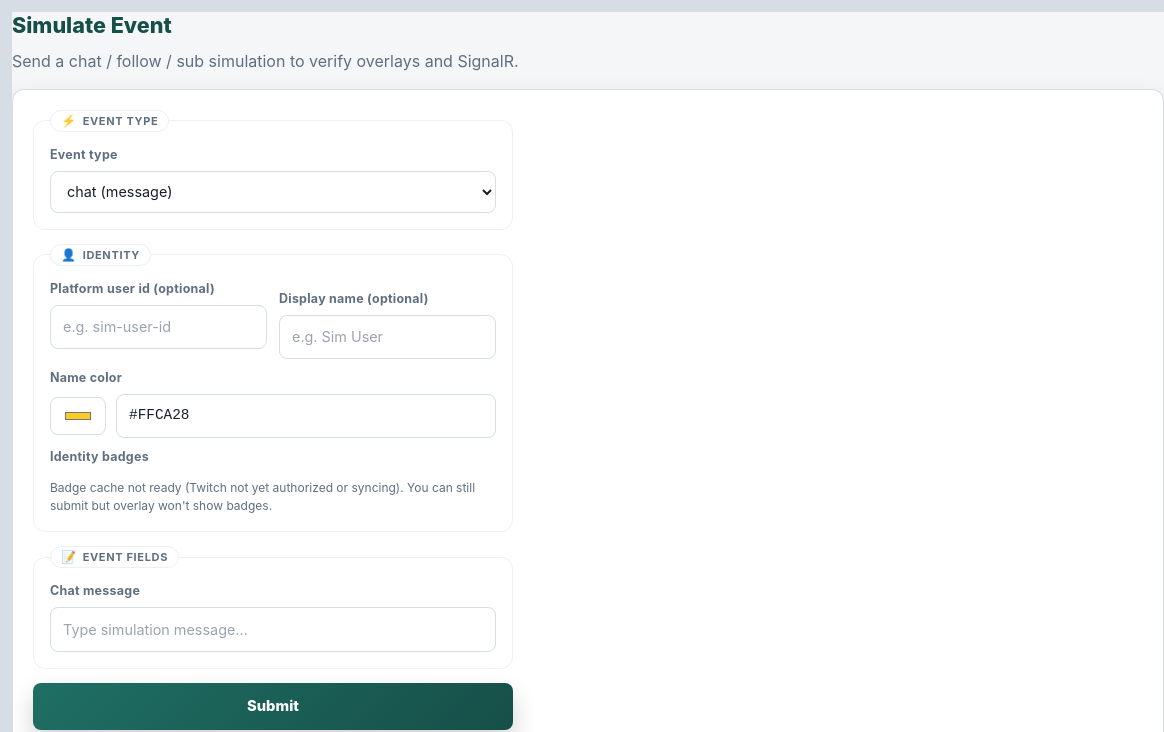
Test: SimulateControlsPanel › should show batch section only when alias is checkin
The width and height of the screenshot is (1164, 732).
Select "checkin" in the dropdown labelled "Event type" at (273, 192), box [50,171,496,213]
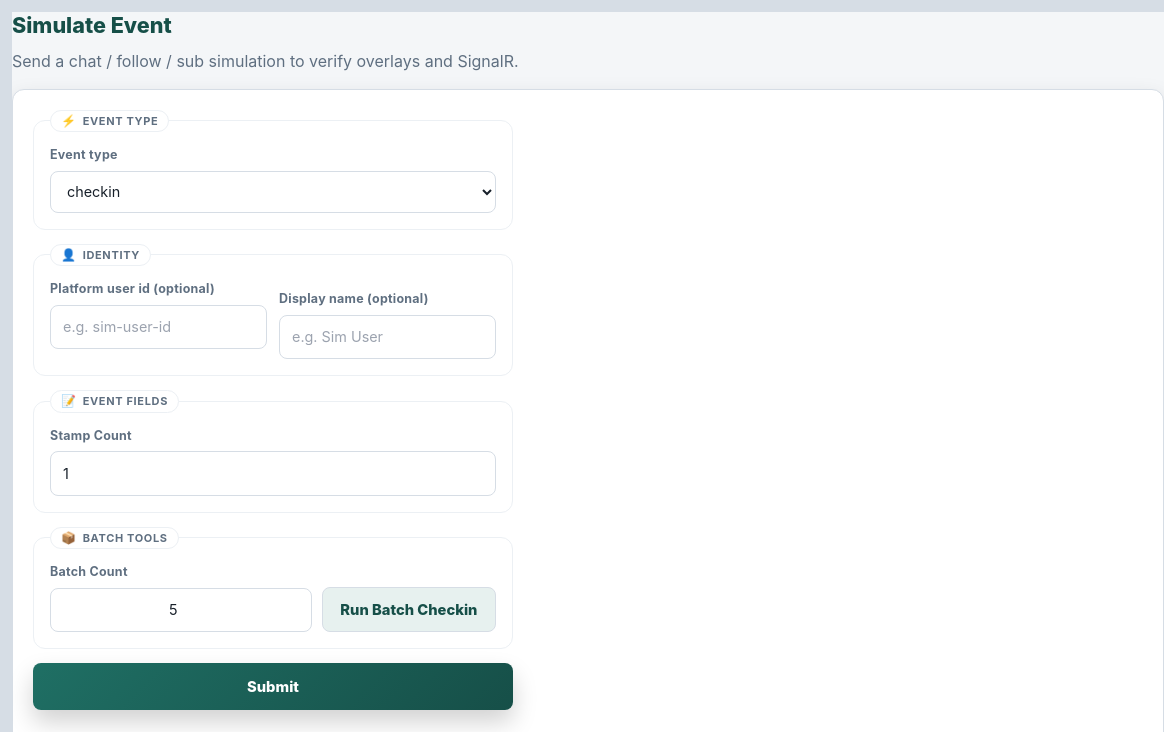
Expected: the element with test id "section-identity-compact" is shown, [33,244,513,376]
Expected: the element with test id "section-batch" is shown, [33,527,513,649]
